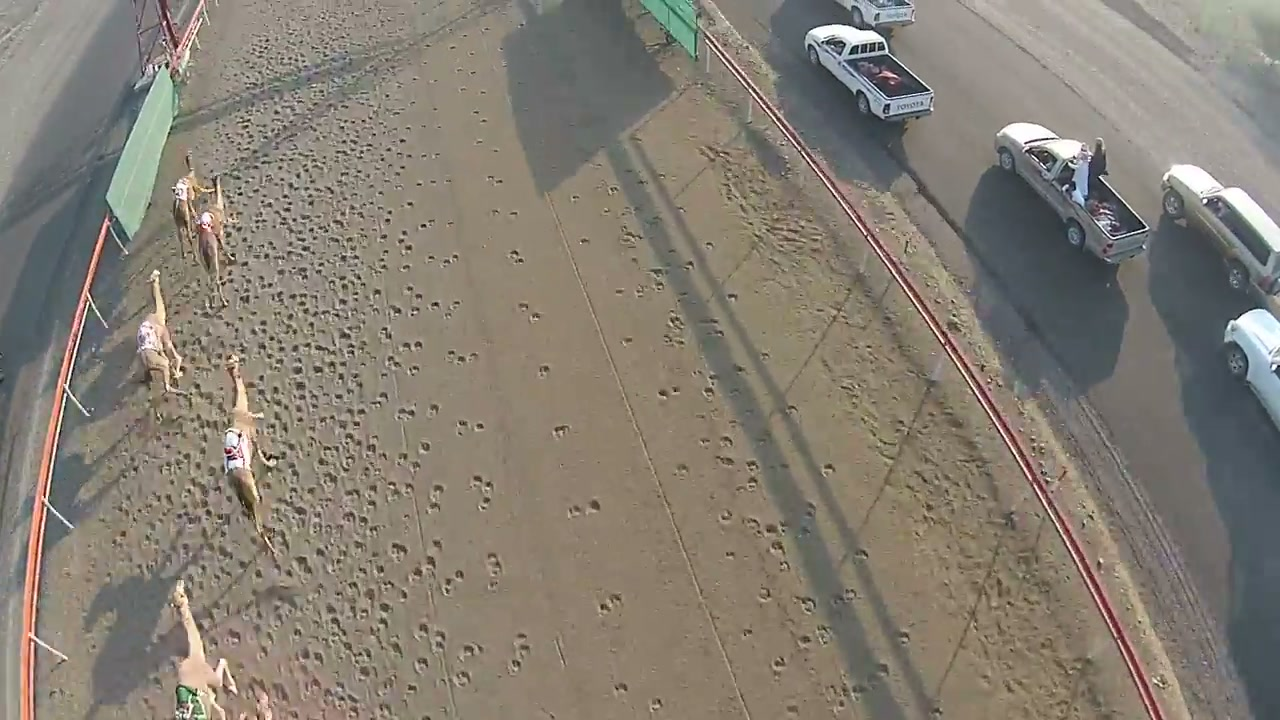animal_foot_print: (144, 0, 362, 706), (343, 103, 467, 707)
